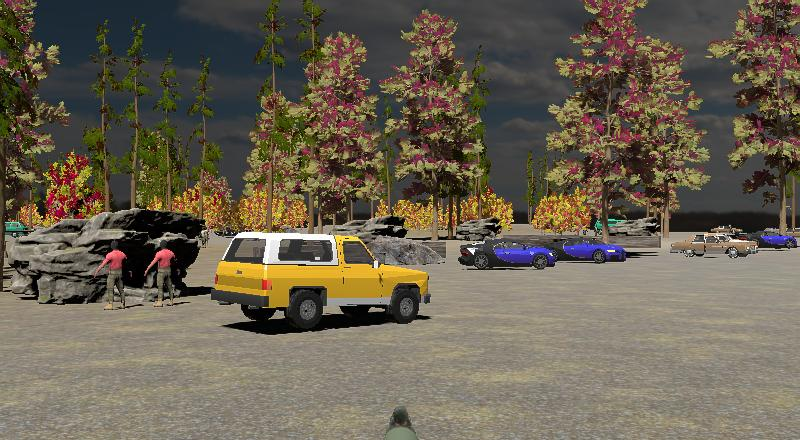Human: (145, 238, 183, 309), (96, 240, 134, 311)
car: (211, 232, 433, 328), (457, 236, 557, 271), (543, 231, 628, 265), (669, 232, 757, 259), (754, 228, 800, 250), (0, 219, 33, 239)
